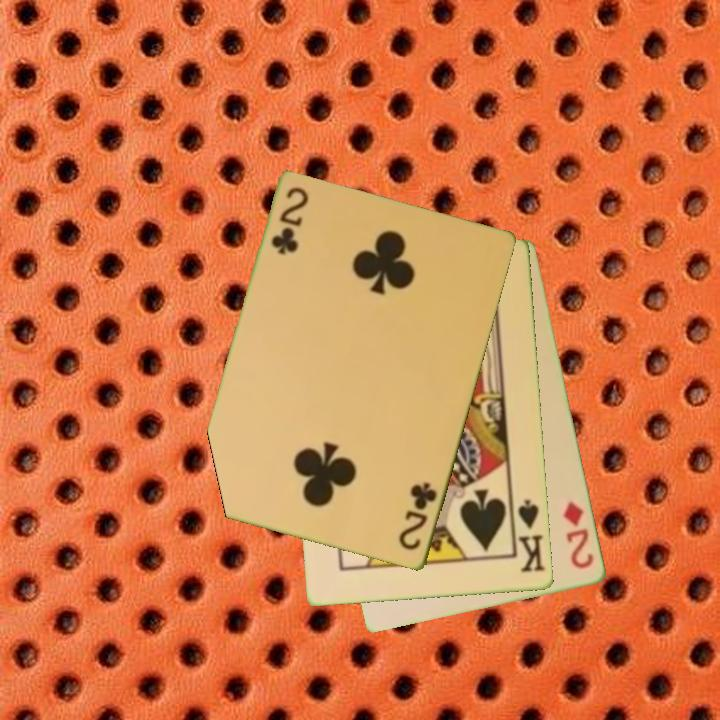2c: (395, 479, 441, 554), (268, 184, 311, 259)
2d: (560, 498, 597, 572)
Ks: (509, 496, 548, 575)
